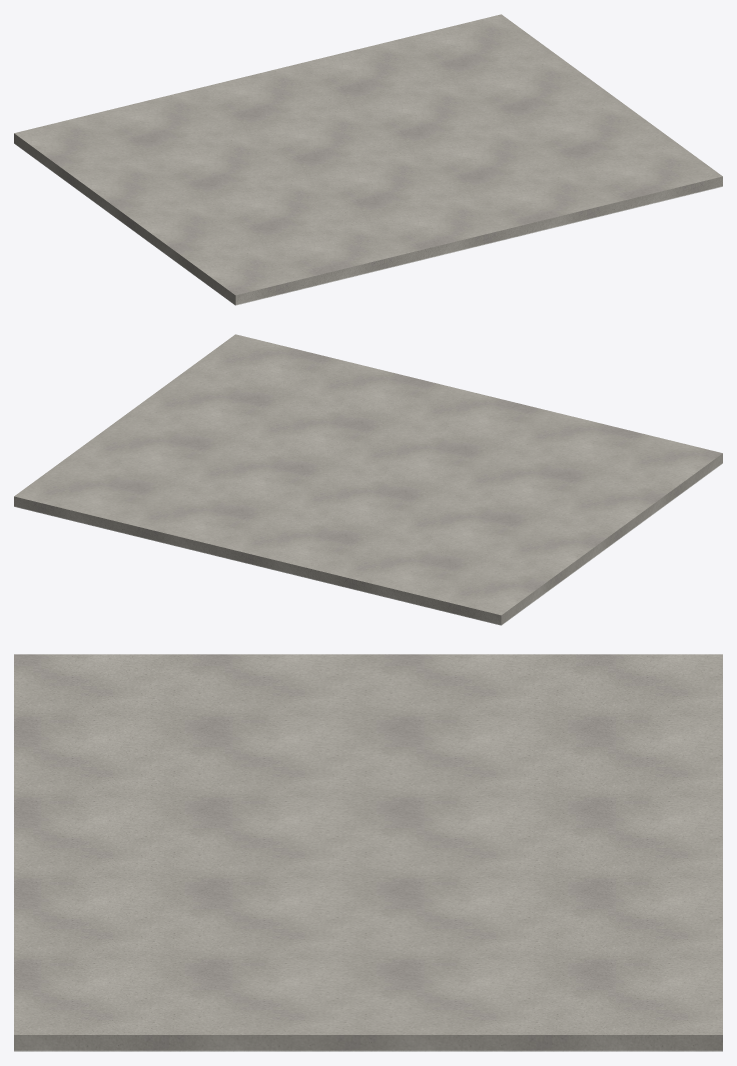
The model's file is office_ceil.glb.
3 views of the same model, one above another, from view 1: azimuth 30°, elevation 25°; view 2: azimuth 150°, elevation 25°; view 3: azimuth 270°, elevation 25° (orthographic). The views are drawn at different scales.
Parts seen in each view (by area): view 1: office_ceil_conc_s, office_ceil_ceil; view 2: office_ceil_conc_s, office_ceil_ceil; view 3: office_ceil_conc_s, office_ceil_ceil.
Boxes of the visible parts, left/top/right/bottom form: office_ceil_conc_s: left=14, top=14, right=722, bottom=304; office_ceil_ceil: left=14, top=143, right=722, bottom=305; office_ceil_conc_s: left=14, top=334, right=722, bottom=624; office_ceil_ceil: left=14, top=463, right=722, bottom=625; office_ceil_conc_s: left=14, top=654, right=722, bottom=1050; office_ceil_ceil: left=14, top=1050, right=722, bottom=1051.
Size of the model in its own units: 9.4 by 0.214 by 7.4.
Materials: 4 (2 with a texture image).
